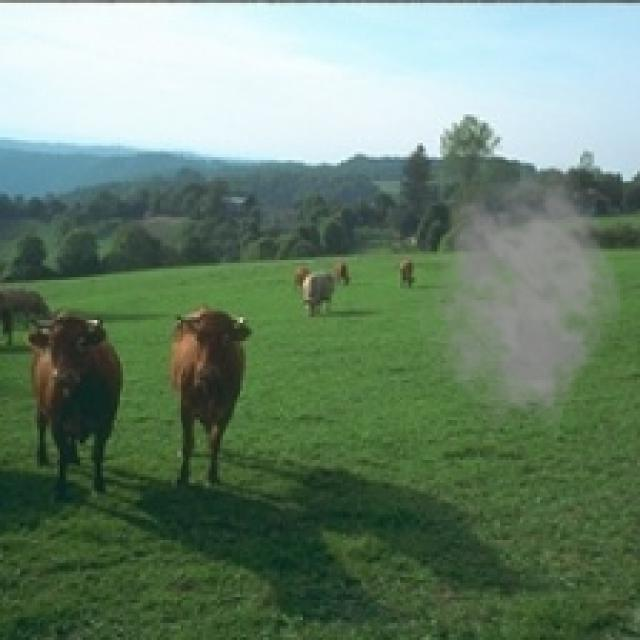smoke: (414, 163, 623, 440)
